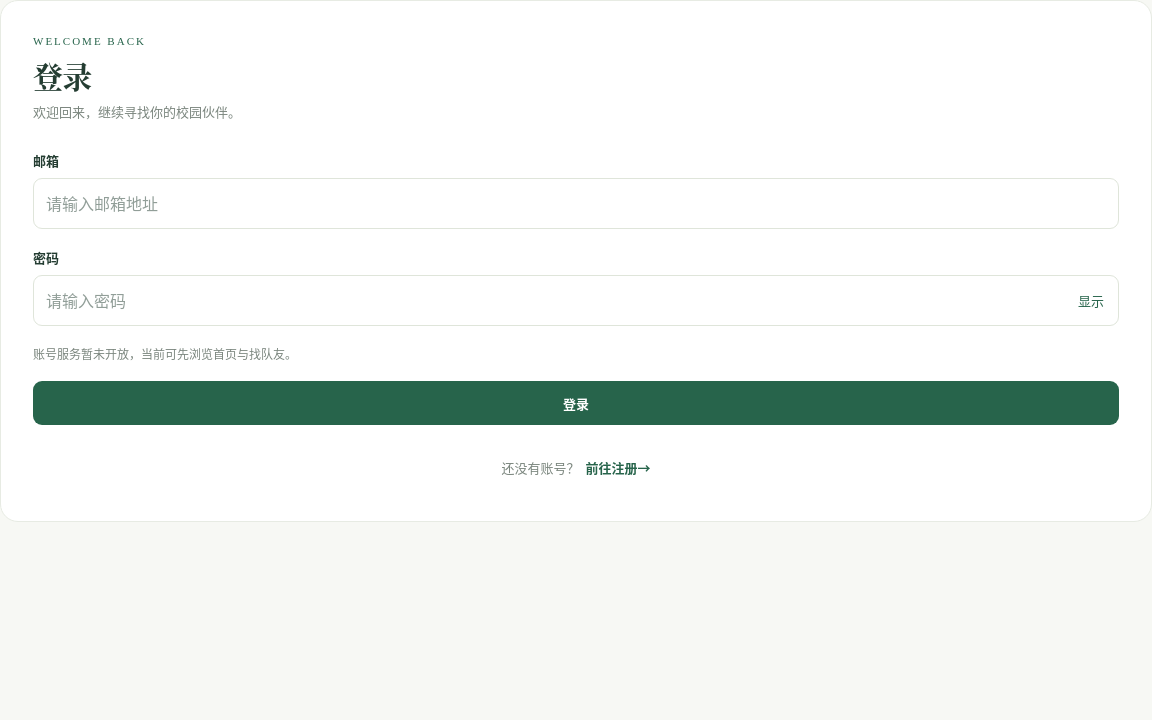
it: 登录注册表单 › 登录密码只需非空，旧账号短密码不被注册规则拒绝
Type "student@example.com" into the field labelled "邮箱" at (576, 204), box [34,179,1118,228]
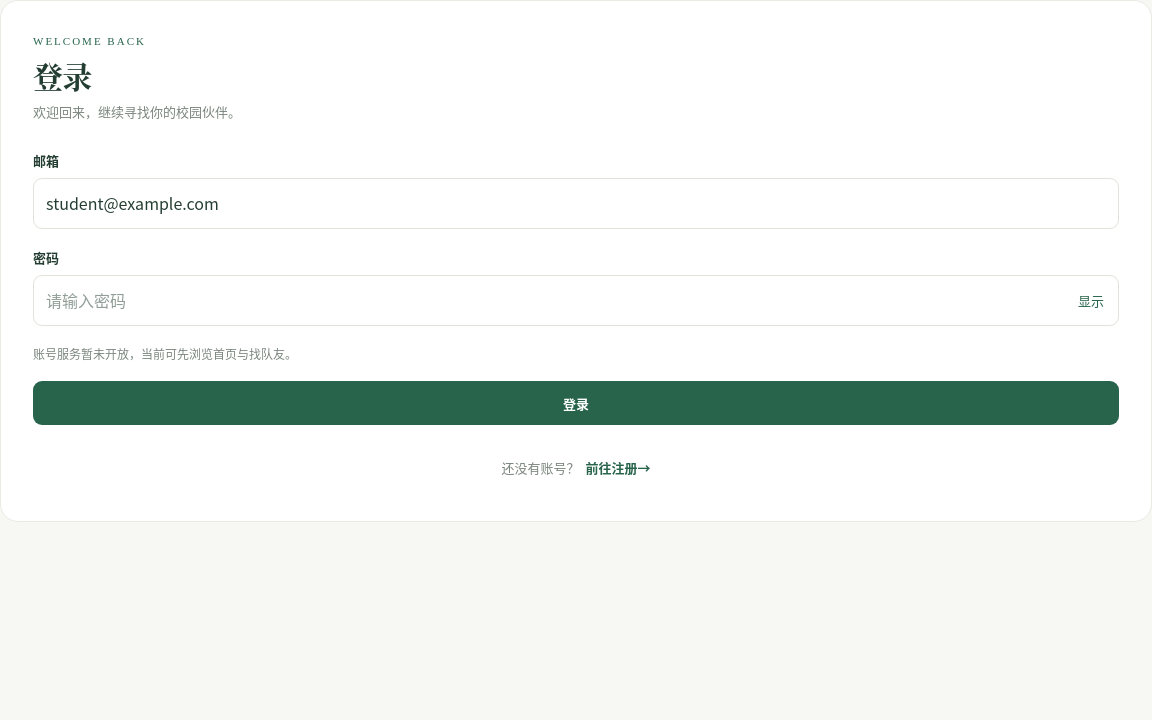
Type "x" into the password field with id "auth-password" at (551, 300), box [34,276,1068,325]
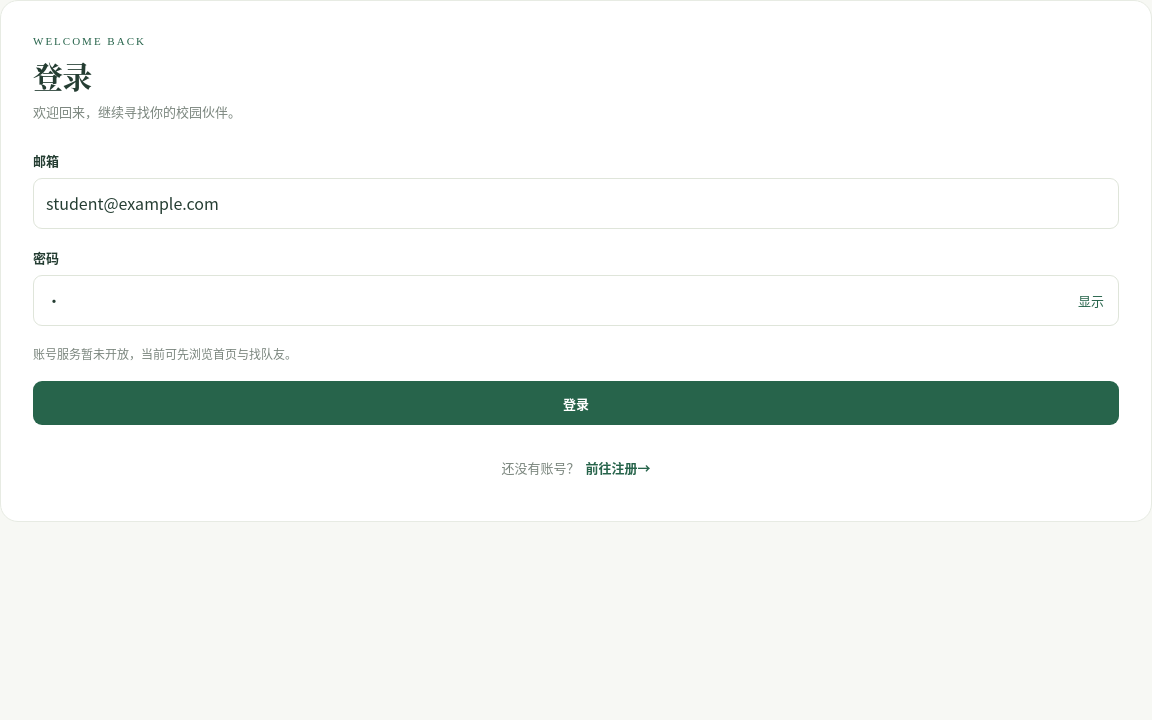
Submit the form, box [33,150,1119,425]
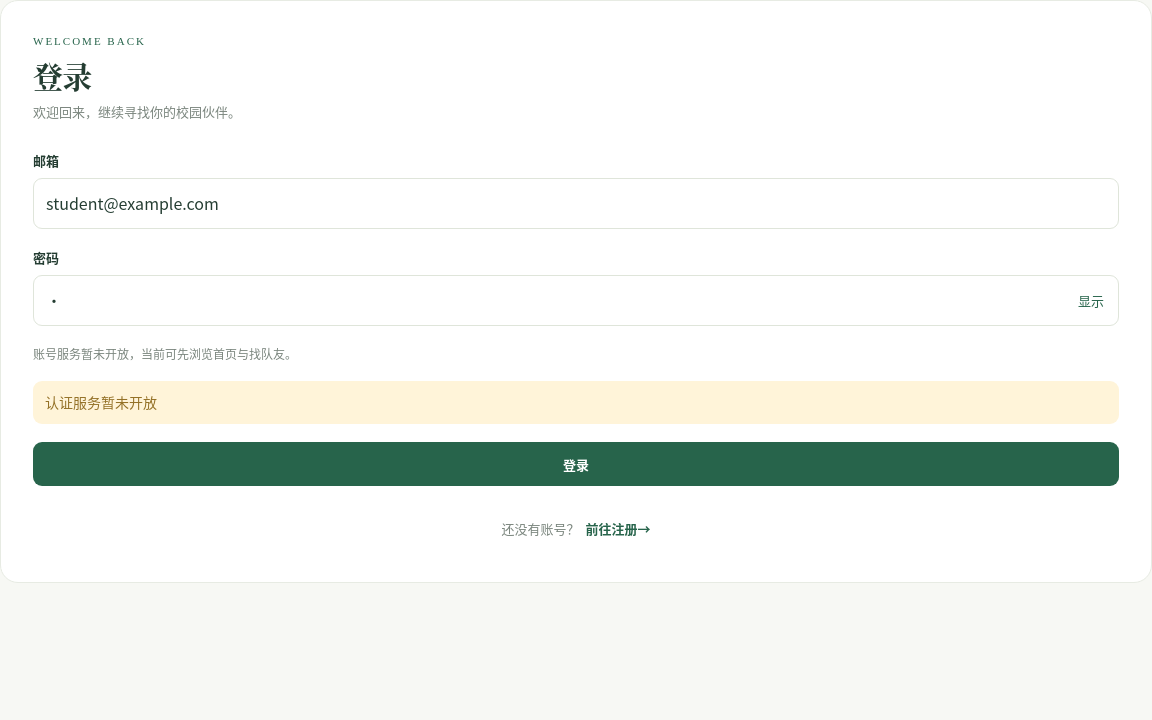
Result: the message "认证服务暂未开放" is shown at [33,381,1119,424]
Clear the password field with id "auth-password" at (551, 300), box [34,276,1068,325]
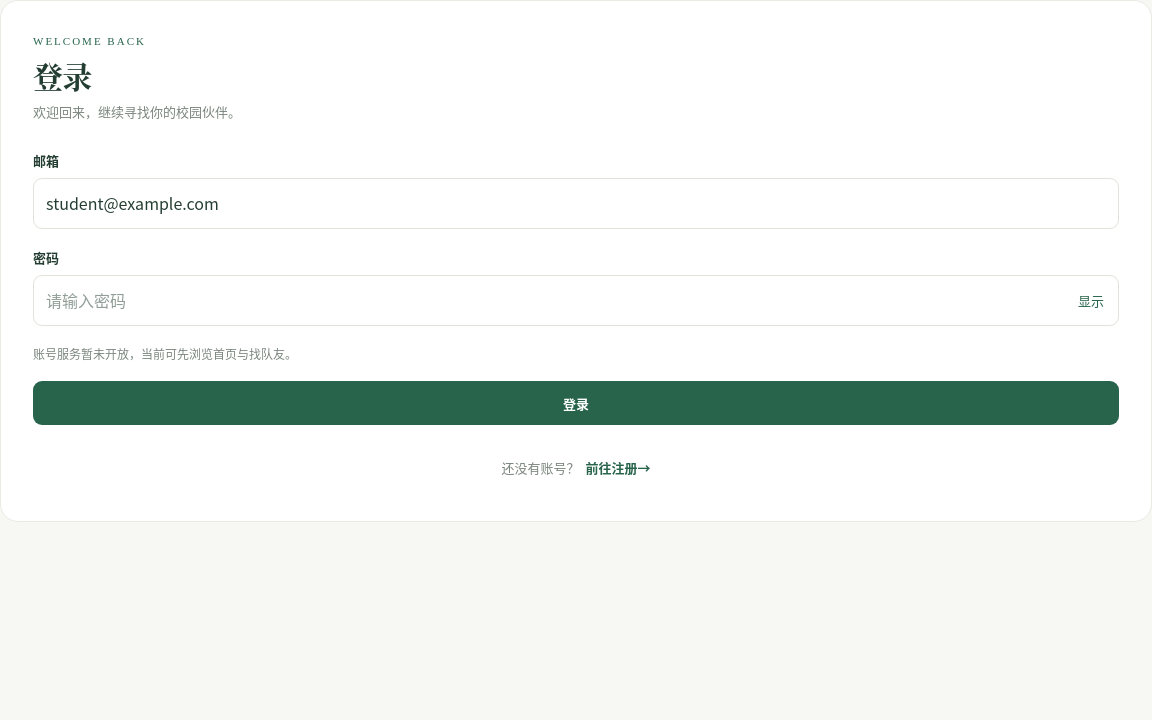
Submit the form, box [33,150,1119,425]
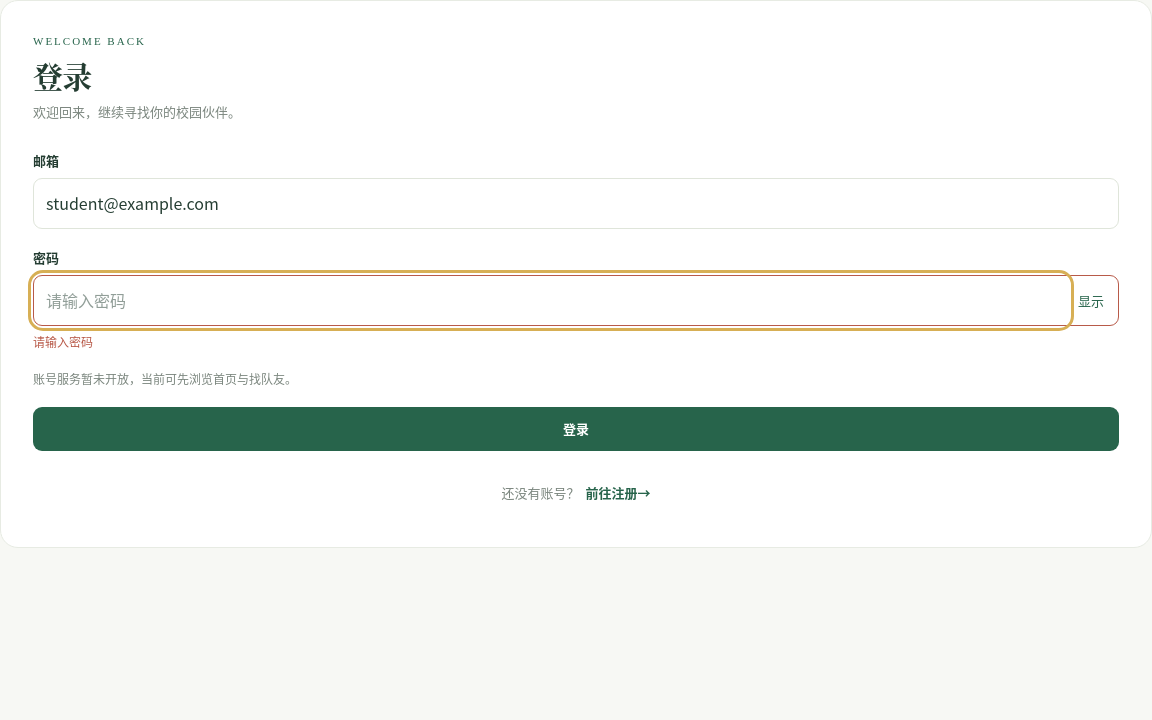
Result: the text "请输入密码" is shown at [33,333,93,350]
